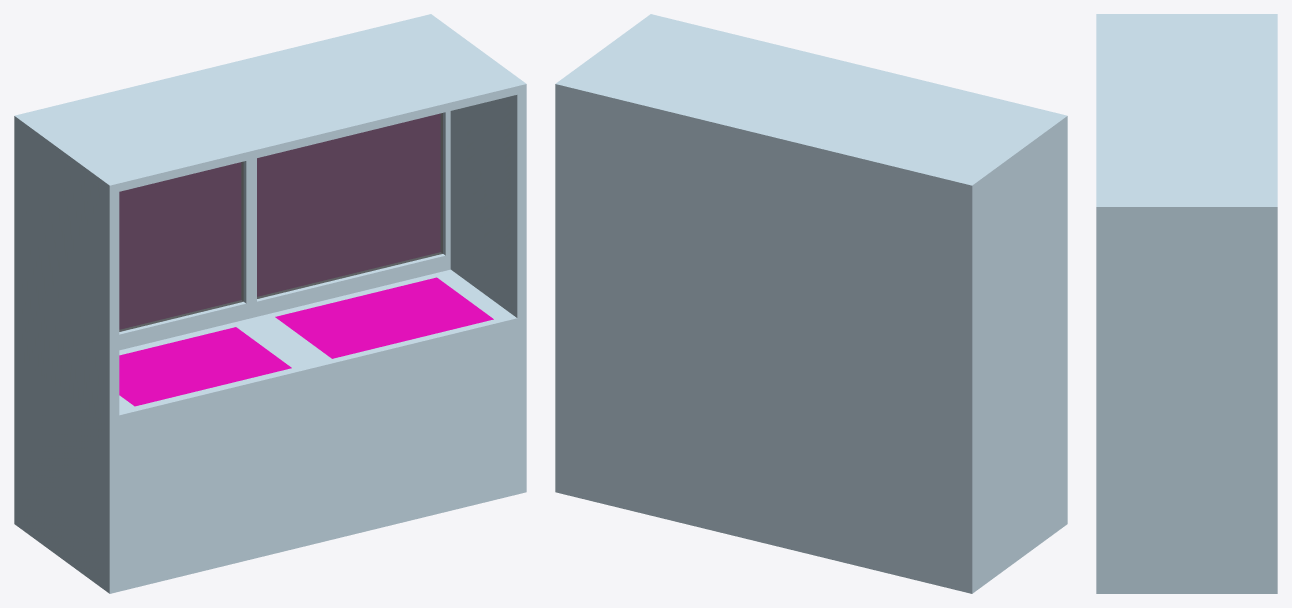
Rendered from EB_CommsStation.fbx.
3 renders of one model, left to right at view 1: azimuth 30°, elevation 25°; view 2: azimuth 150°, elevation 25°; view 3: azimuth 270°, elevation 25°, orthographic. The views are drawn at different scales.
Visible parts, largest first — view 1: CommsStation; view 2: CommsStation; view 3: CommsStation.
Boxes of the visible parts, x1,y1,x2,y2 form: CommsStation: (14, 14, 526, 593); CommsStation: (555, 14, 1067, 593); CommsStation: (1096, 14, 1277, 593).
Bounding box in the file's own units: 144 × 135 × 57.27.
